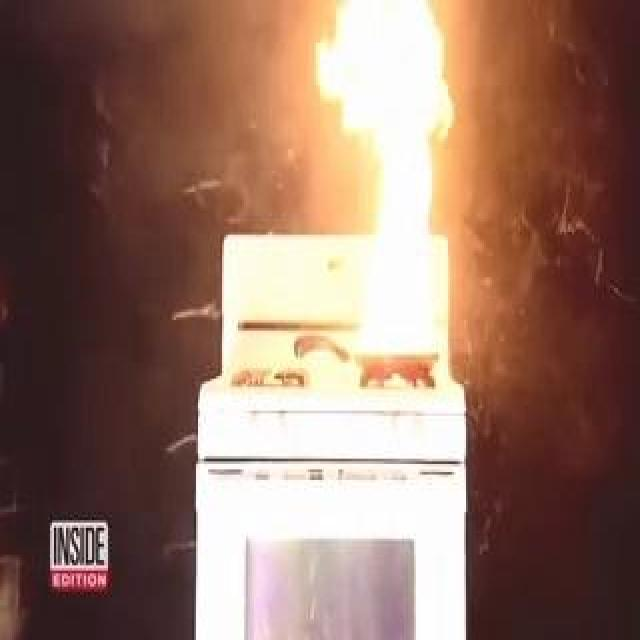Fire: (353, 2, 465, 362)
